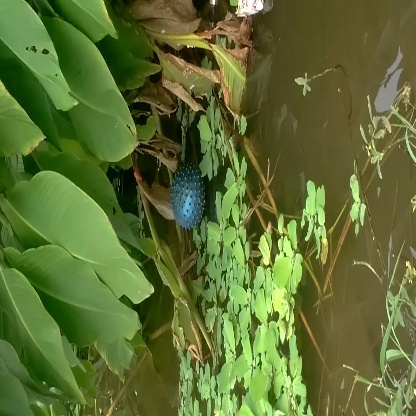ball: (167, 161, 209, 230)
